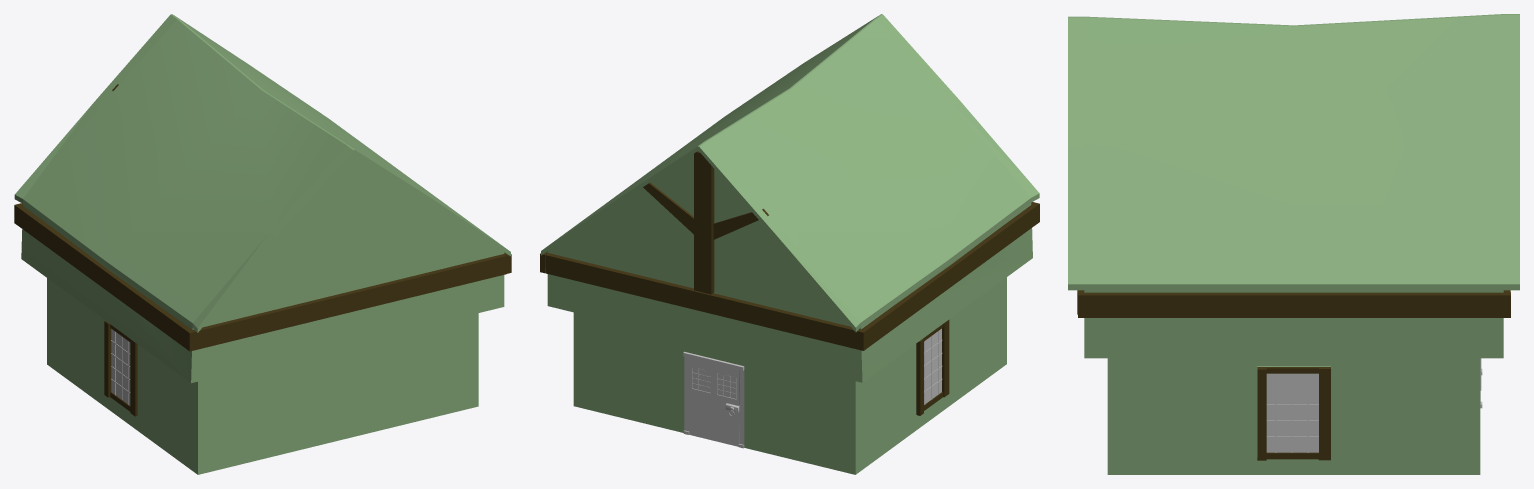
The model's file is House.fbx.
3 renders of one model, left to right at view 1: azimuth 30°, elevation 25°; view 2: azimuth 150°, elevation 25°; view 3: azimuth 270°, elevation 25°, orthographic. The views are drawn at different scales.
Visible parts, largest first — view 1: Box001, x001, x, frameleft003, Object003; view 2: Box001, x002, x, Object004, x021, frameleft003, frameleft004, Object003, x023, x022; view 3: Box001, x003, Object001, frameleft002.
Boxes of the visible parts, box(x1,y1,x2,y2) form: Box001: box(14, 14, 510, 474); x001: box(187, 254, 506, 351); x: box(15, 203, 194, 348); frameleft003: box(104, 321, 137, 416); Object003: box(111, 329, 130, 405); Box001: box(541, 14, 1039, 474); x002: box(545, 253, 866, 350); x: box(859, 202, 1039, 348); Object004: box(689, 357, 738, 446); x021: box(694, 151, 714, 294); frameleft003: box(916, 320, 949, 415); frameleft004: box(683, 351, 744, 448); Object003: box(924, 328, 942, 404); x023: box(643, 182, 693, 234); x022: box(713, 208, 768, 239); Box001: box(1068, 14, 1519, 474); x003: box(1078, 292, 1510, 317); Object001: box(1266, 373, 1318, 452); frameleft002: box(1257, 367, 1330, 460).
Bounding box in the file's own units: 13.91 × 12.56 × 13.67.
